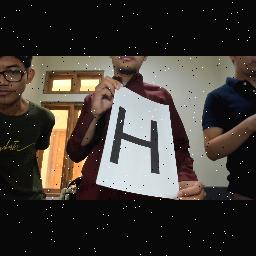h: (104, 102, 168, 178)
